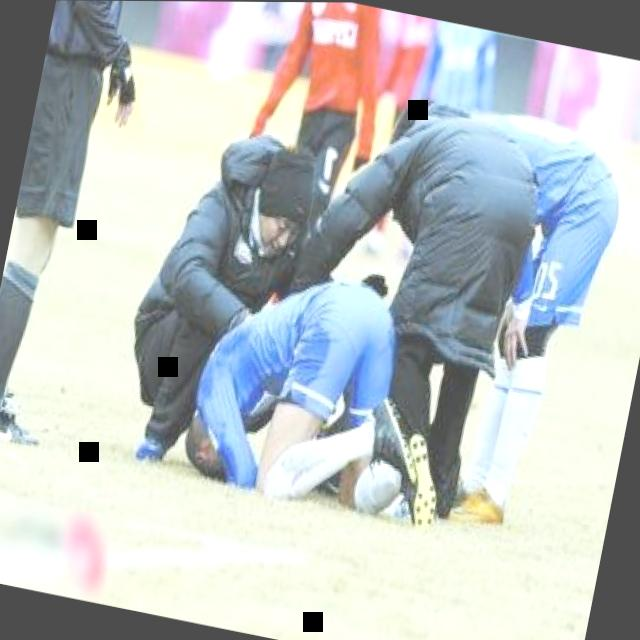Fall-Detected: (174, 230, 466, 529)
